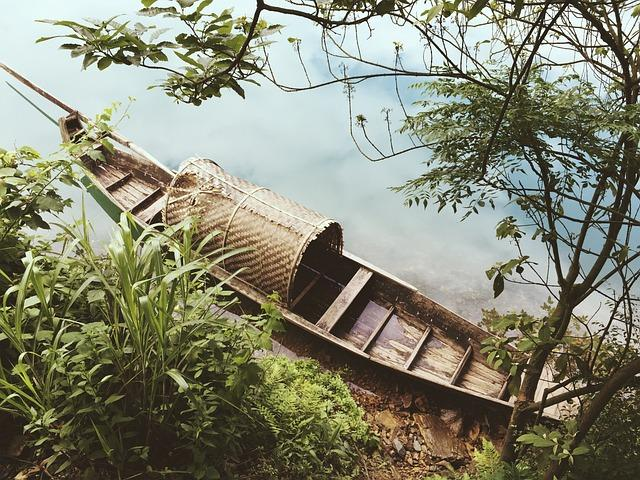Non_Gorille: (32, 46, 580, 466)
